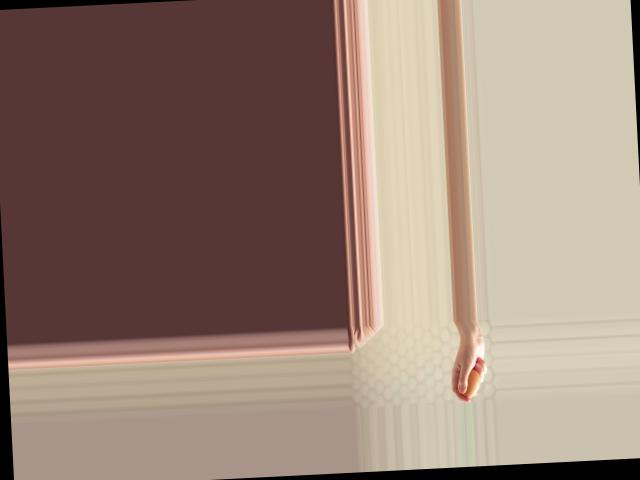egg: (459, 368, 482, 397)
